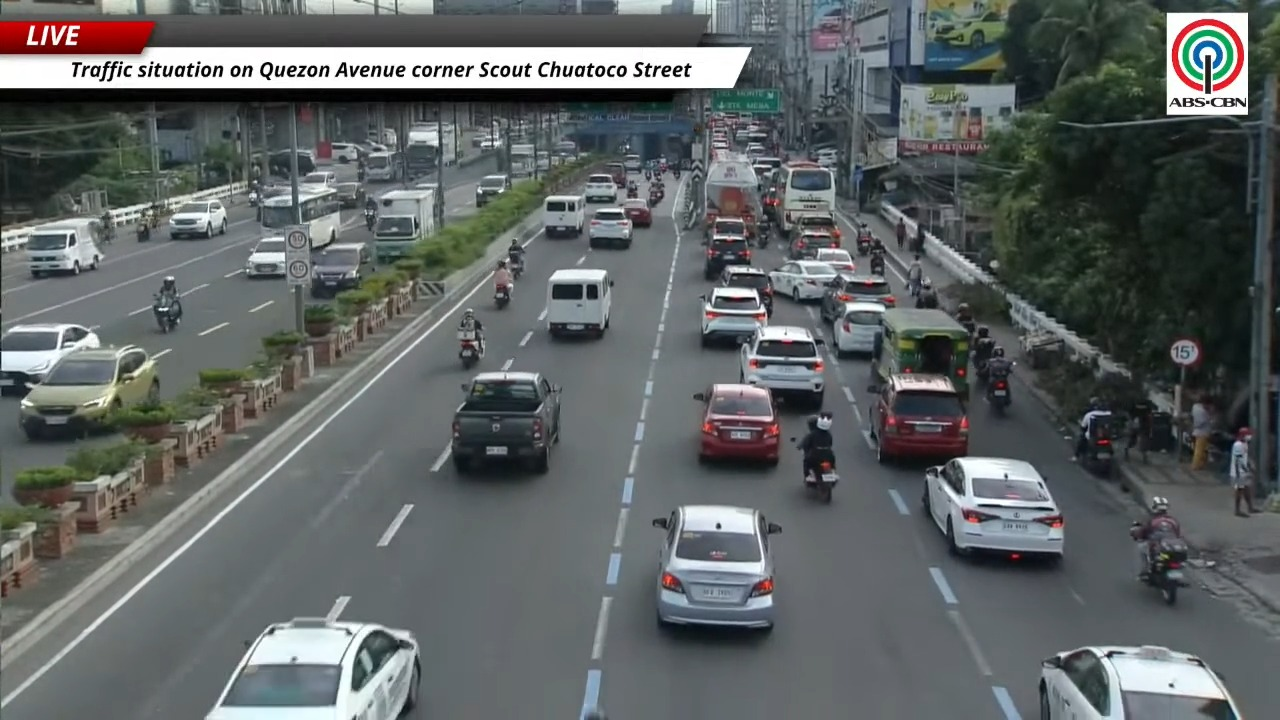bus: (260, 188, 340, 249), (774, 162, 836, 235), (366, 151, 398, 181)
car: (206, 618, 421, 719), (652, 505, 781, 630), (1038, 646, 1241, 719), (922, 457, 1064, 560), (20, 345, 159, 439), (870, 373, 969, 462), (739, 326, 824, 407), (694, 384, 780, 464), (0, 323, 99, 392), (701, 287, 767, 346), (821, 272, 895, 321), (310, 244, 372, 297), (832, 301, 885, 354), (770, 260, 836, 302), (933, 11, 1005, 49), (720, 265, 772, 315), (168, 200, 227, 238), (703, 234, 751, 279), (588, 207, 632, 248), (245, 237, 285, 278), (787, 229, 840, 259), (791, 212, 841, 239), (475, 174, 510, 206), (583, 174, 617, 203), (814, 248, 855, 271), (705, 216, 748, 237), (622, 199, 652, 227), (334, 181, 365, 208), (818, 8, 845, 33), (331, 142, 362, 163), (299, 170, 336, 187), (761, 188, 779, 220), (605, 163, 627, 188), (816, 149, 838, 167), (479, 137, 501, 150), (712, 140, 729, 150)
motorcycle: (1144, 536, 1188, 605), (1078, 416, 1115, 477), (803, 453, 838, 503), (804, 460, 838, 503), (985, 373, 1011, 414), (153, 294, 178, 333), (459, 330, 483, 369), (756, 218, 771, 248), (494, 284, 511, 309), (508, 254, 523, 280), (959, 320, 975, 341), (869, 254, 884, 276), (101, 225, 117, 245), (856, 234, 871, 255), (135, 222, 150, 242), (364, 209, 376, 230), (648, 192, 662, 208), (247, 189, 259, 206), (627, 188, 637, 198)
truck: (451, 371, 560, 474), (704, 154, 761, 236), (373, 189, 436, 263), (404, 124, 458, 176), (509, 143, 536, 178)
